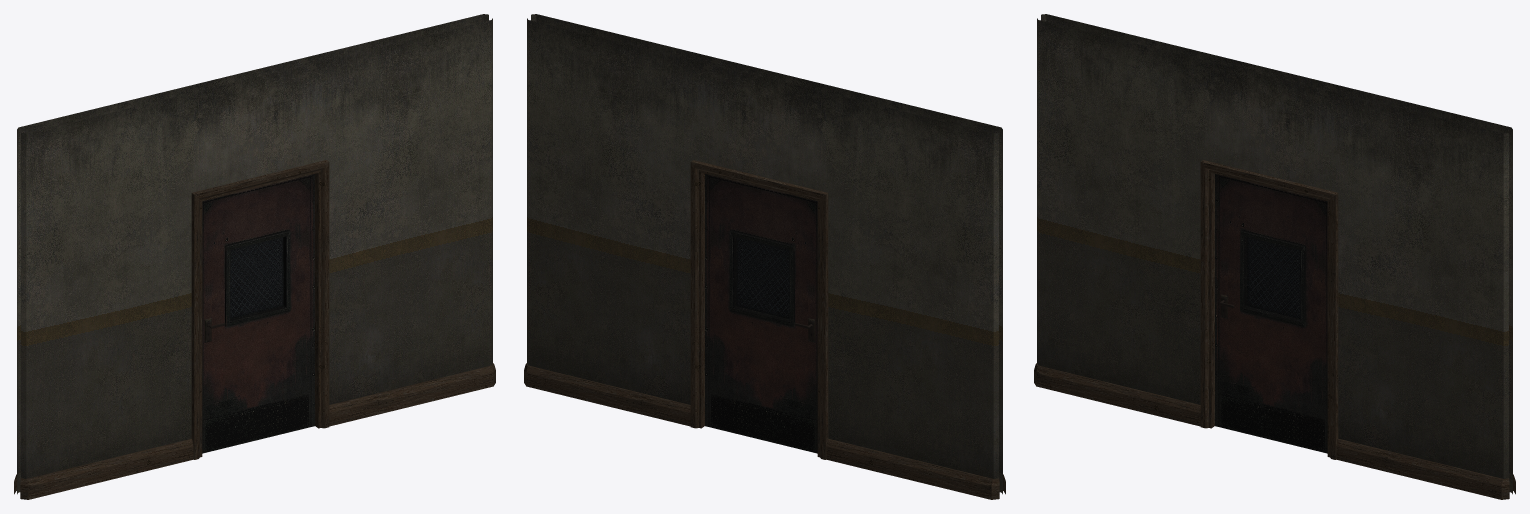
The model's file is doorway_1.glb.
3 renders of one model, left to right at view 1: azimuth 30°, elevation 25°; view 2: azimuth 150°, elevation 25°; view 3: azimuth 330°, elevation 25°, orthographic.
Visible parts, largest first — view 1: doorway_1, door_4; view 2: doorway_1, door_4; view 3: doorway_1, door_4.
Part boxes in pixels (x1,y1,x2,y2): doorway_1: (14, 14, 495, 499); door_4: (202, 174, 314, 453); doorway_1: (524, 14, 1005, 499); door_4: (705, 174, 817, 453); doorway_1: (1034, 14, 1515, 499); door_4: (1215, 174, 1327, 453).
Size of the model in its own units: 4.09 by 3 by 0.2.
4 materials, 4 textured.
